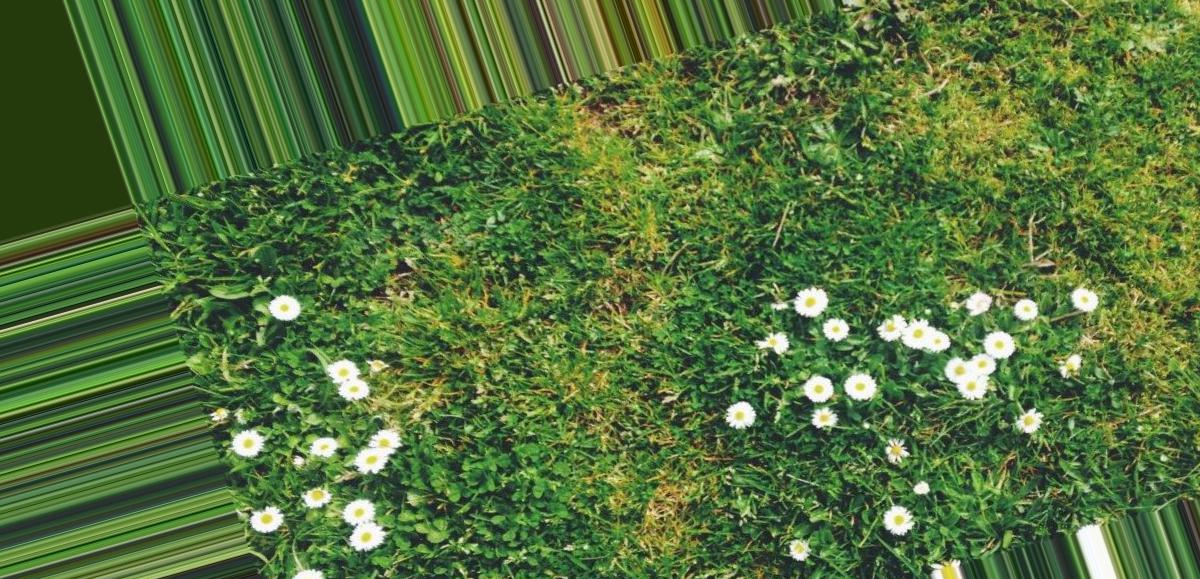patch: (935, 81, 1014, 172), (574, 116, 667, 171), (648, 451, 711, 511)
